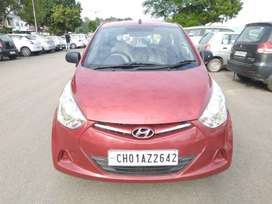CH01AZ2642: (108, 149, 178, 166)
